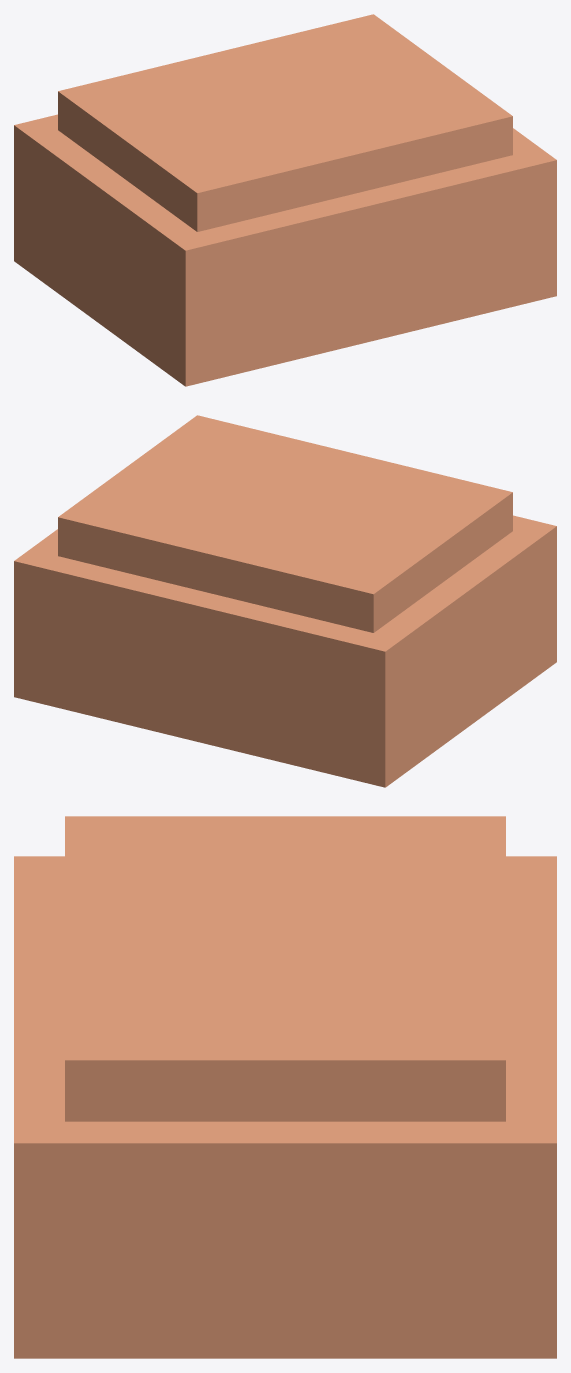
File: product_premium_portion.glb
3 views of the same model, one above another, from view 1: azimuth 30°, elevation 25°; view 2: azimuth 150°, elevation 25°; view 3: azimuth 270°, elevation 25° (orthographic). The views are drawn at different scales.
Parts seen in each view (by area): view 1: product.premium_portion; view 2: product.premium_portion; view 3: product.premium_portion.
Boxes of the visible parts, box(x1,y1,x2,y2) form: product.premium_portion: box(14, 14, 556, 386); product.premium_portion: box(14, 415, 556, 787); product.premium_portion: box(14, 816, 556, 1358).
Bounding box in the file's own units: 0.24 × 0.108 × 0.192.
